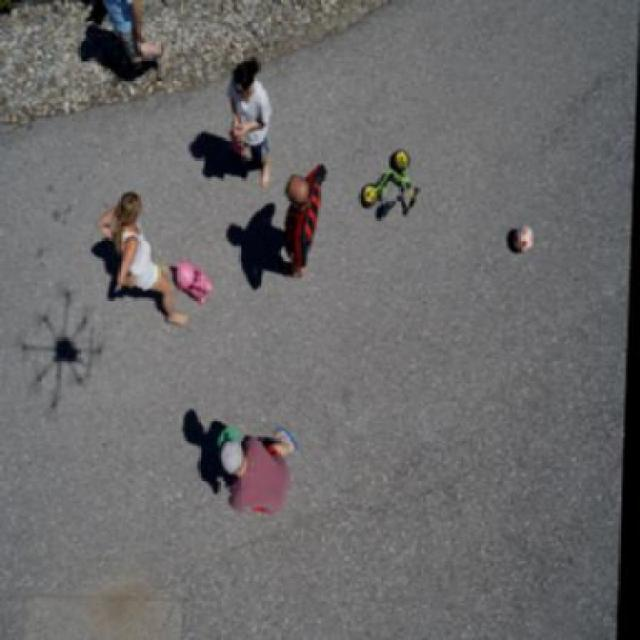Person: (95, 190, 200, 327), (218, 414, 312, 520), (224, 53, 282, 189), (280, 153, 340, 284), (86, 0, 159, 69)
